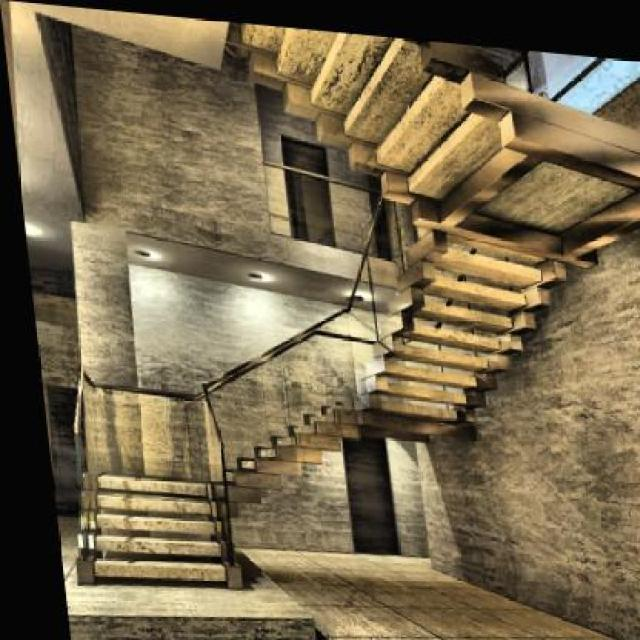stair: (58, 458, 225, 582)
